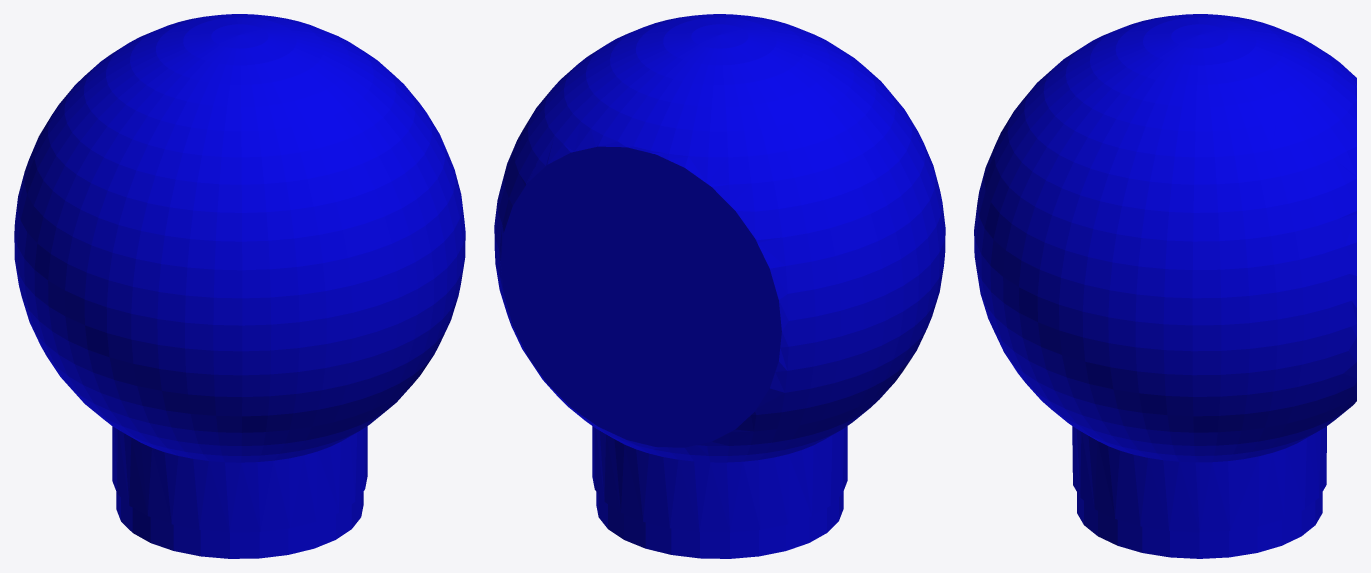
File: arm_5_link.dae
3 views of the same model, side by side, from view 1: azimuth 30°, elevation 25°; view 2: azimuth 150°, elevation 25°; view 3: azimuth 270°, elevation 25° (orthographic).
Visible parts, largest first — view 1: Arm 5 Link; view 2: Arm 5 Link; view 3: Arm 5 Link.
Part boxes in pixels (x1,y1,x2,y2): Arm 5 Link: [14, 14, 465, 558]; Arm 5 Link: [494, 14, 945, 558]; Arm 5 Link: [974, 14, 1356, 558].
Bounding box in the file's own units: 0.1148 × 0.0974 × 0.1325.
